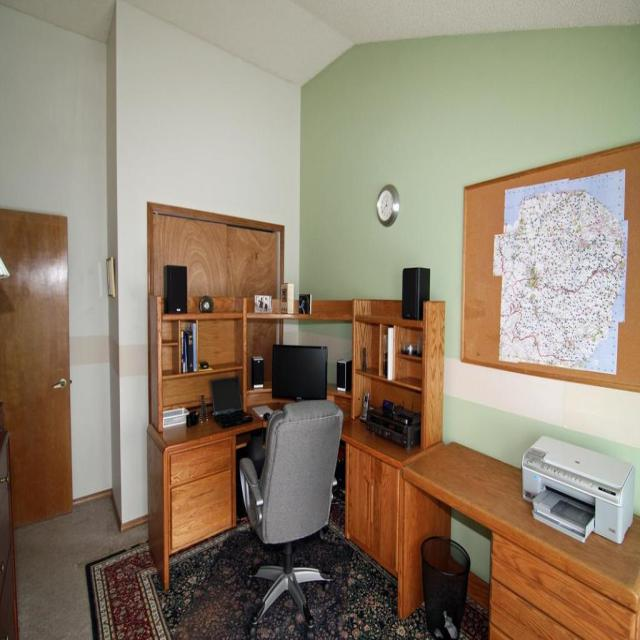printer: (519, 431, 640, 552)
